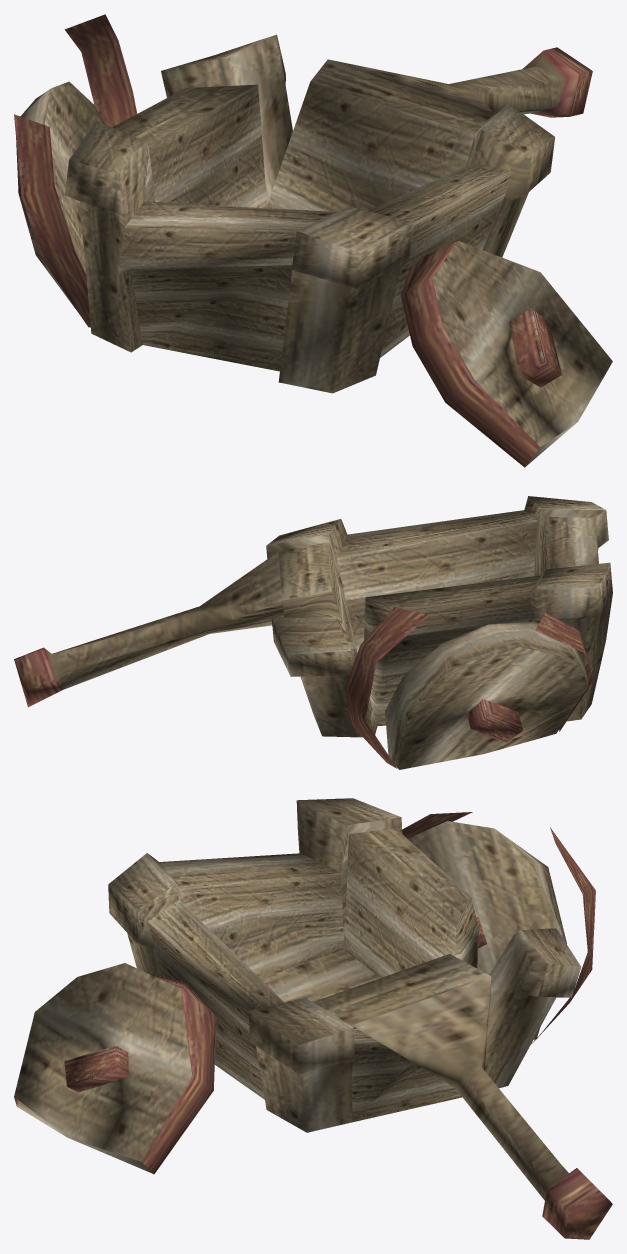
The model's file is brokencart.glb.
The picture shows the model from 3 angles, top to bottom: view 1: azimuth 30°, elevation 25°; view 2: azimuth 150°, elevation 25°; view 3: azimuth 270°, elevation 25°; orthographic projection. The views are drawn at different scales.
Size of the model in its own units: 5.1 by 1.87 by 4.62.
1 material, 1 textured.
